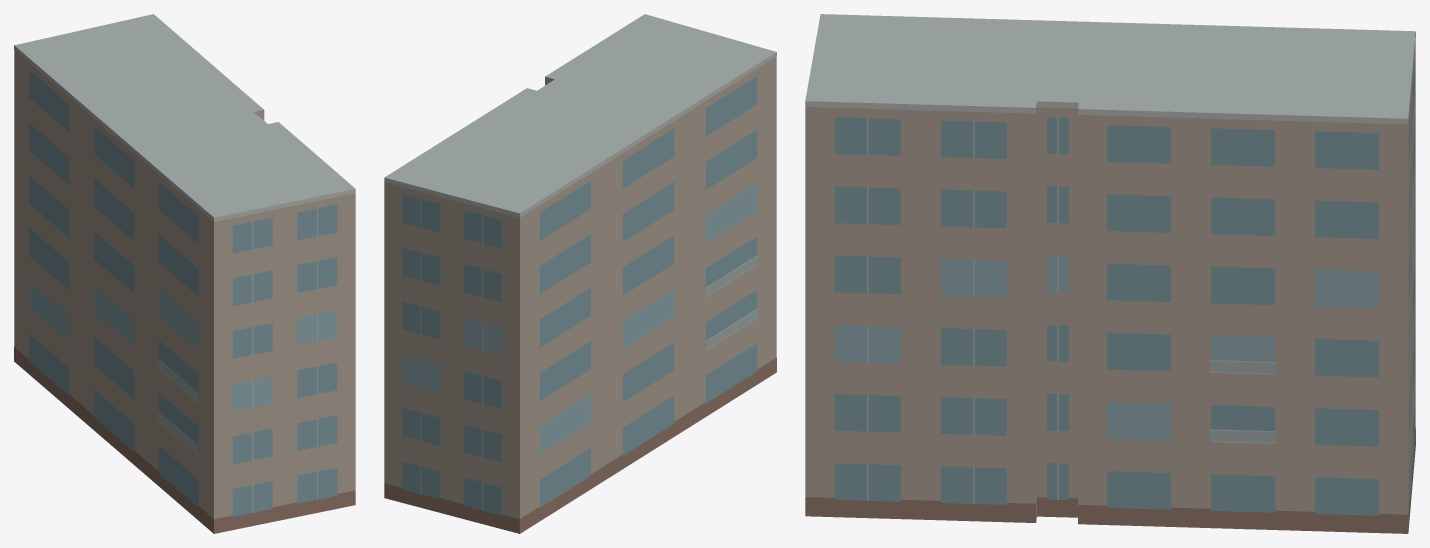
The model's file is survey-upis-32657834.glb.
3 renders of one model, left to right at view 1: azimuth 30°, elevation 25°; view 2: azimuth 150°, elevation 25°; view 3: azimuth 270°, elevation 25°, orthographic. The views are drawn at different scales.
Parts seen in each view (by area): view 1: survey-upis-32657834.tmp; view 2: survey-upis-32657834.tmp; view 3: survey-upis-32657834.tmp.
Boxes of the visible parts, x1=… form: survey-upis-32657834.tmp: x1=14, y1=14, x2=355, y2=533; survey-upis-32657834.tmp: x1=384, y1=14, x2=776, y2=533; survey-upis-32657834.tmp: x1=805, y1=14, x2=1415, y2=533.
Size of the model in its own units: 9.48 by 17.5 by 23.33.
